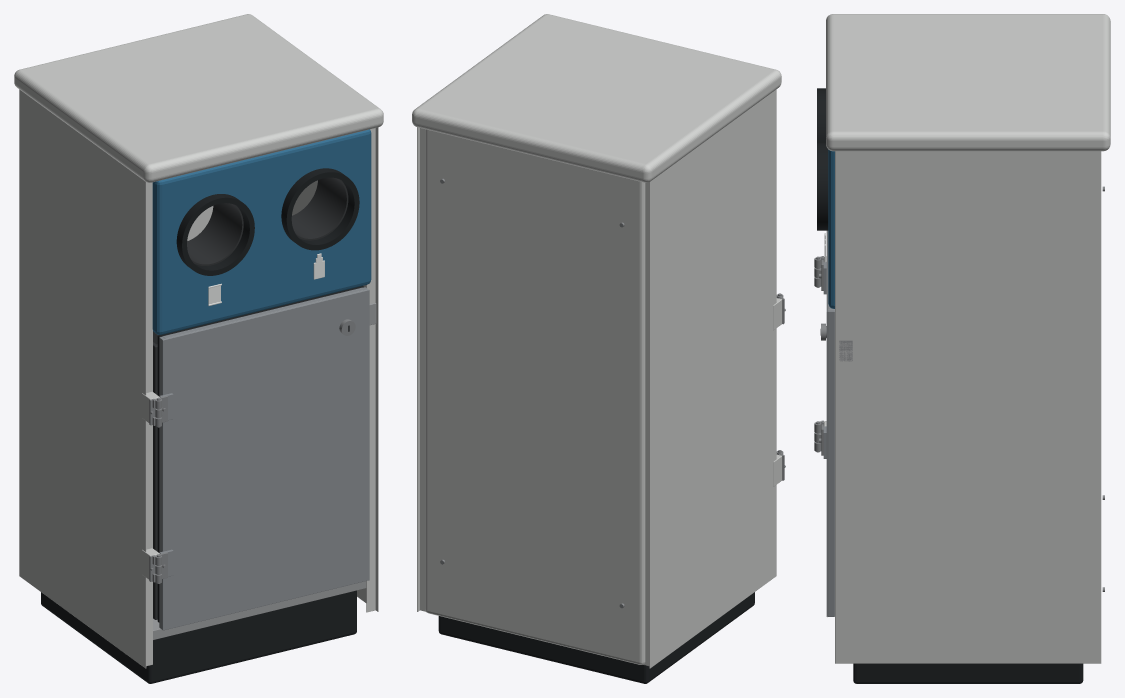
Rendered from public_recycling_bin.glb.
The picture shows the model from 3 angles, left to right: view 1: azimuth 30°, elevation 25°; view 2: azimuth 150°, elevation 25°; view 3: azimuth 270°, elevation 25°; orthographic projection. The views are drawn at different scales.
Visible parts, largest first — view 1: Two millimetre folded side sheet, Two millimetre painted door skin, Weather cap, Blue sorting aperture fascia, Recessed plinth, Side sheet folded return.002, Side sheet folded return, Two millimetre folded side sheet.001, Deep insertion chute.001, Deep insertion chute, Rounded insertion collar.001, Rounded insertion collar (+5 smaller); view 2: Rear cabinet panel, Two millimetre folded side sheet, Weather cap, Recessed plinth, Side sheet folded return.003, Side sheet folded return.001, Two millimetre folded side sheet.001; view 3: Two millimetre folded side sheet.001, Weather cap, Recessed plinth, Door folded vertical return.001, Blue sorting aperture fascia, Rounded insertion collar.001, Two millimetre painted door skin, Side sheet folded return.002, Rounded insertion collar.
Part boxes in pixels (x1=…): Two millimetre folded side sheet: x1=19, y1=89, x2=146, y2=668; Two millimetre painted door skin: x1=162, y1=289, x2=369, y2=630; Weather cap: x1=14, y1=14, x2=383, y2=182; Blue sorting aperture fascia: x1=152, y1=129, x2=371, y2=334; Recessed plinth: x1=41, y1=590, x2=356, y2=683; Side sheet folded return.002: x1=366, y1=128, x2=375, y2=612; Side sheet folded return: x1=146, y1=182, x2=152, y2=666; Two millimetre folded side sheet.001: x1=292, y1=127, x2=378, y2=611; Deep insertion chute.001: x1=291, y1=177, x2=348, y2=240; Deep insertion chute: x1=187, y1=203, x2=243, y2=265; Rounded insertion collar.001: x1=281, y1=168, x2=359, y2=250; Rounded insertion collar: x1=176, y1=194, x2=254, y2=275; Rear cabinet panel: x1=425, y1=129, x2=645, y2=664; Two millimetre folded side sheet: x1=649, y1=89, x2=776, y2=668; Weather cap: x1=412, y1=14, x2=781, y2=182; Recessed plinth: x1=438, y1=592, x2=754, y2=683; Side sheet folded return.003: x1=420, y1=128, x2=425, y2=611; Side sheet folded return.001: x1=643, y1=182, x2=649, y2=665; Two millimetre folded side sheet.001: x1=417, y1=127, x2=419, y2=611; Two millimetre folded side sheet.001: x1=835, y1=151, x2=1101, y2=663; Weather cap: x1=826, y1=14, x2=1110, y2=151; Recessed plinth: x1=853, y1=663, x2=1083, y2=683; Door folded vertical return.001: x1=827, y1=310, x2=834, y2=616; Blue sorting aperture fascia: x1=828, y1=149, x2=834, y2=308; Rounded insertion collar.001: x1=817, y1=142, x2=828, y2=230; Two millimetre painted door skin: x1=826, y1=230, x2=827, y2=616; Side sheet folded return.002: x1=840, y1=151, x2=840, y2=663; Rounded insertion collar: x1=817, y1=88, x2=825, y2=141.
Size of the model in its own units: 0.48 by 1.02 by 0.489.
